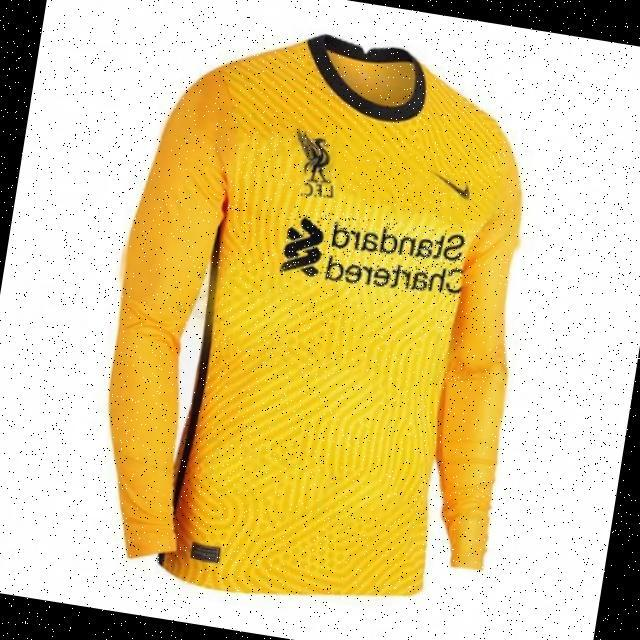Nike: (431, 168, 473, 199)
Standard Chartered: (279, 206, 469, 301)
